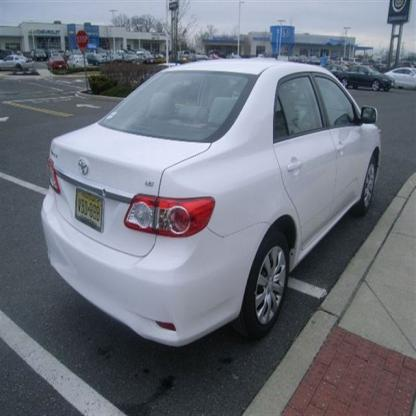Vehicle: (39, 58, 378, 345)
